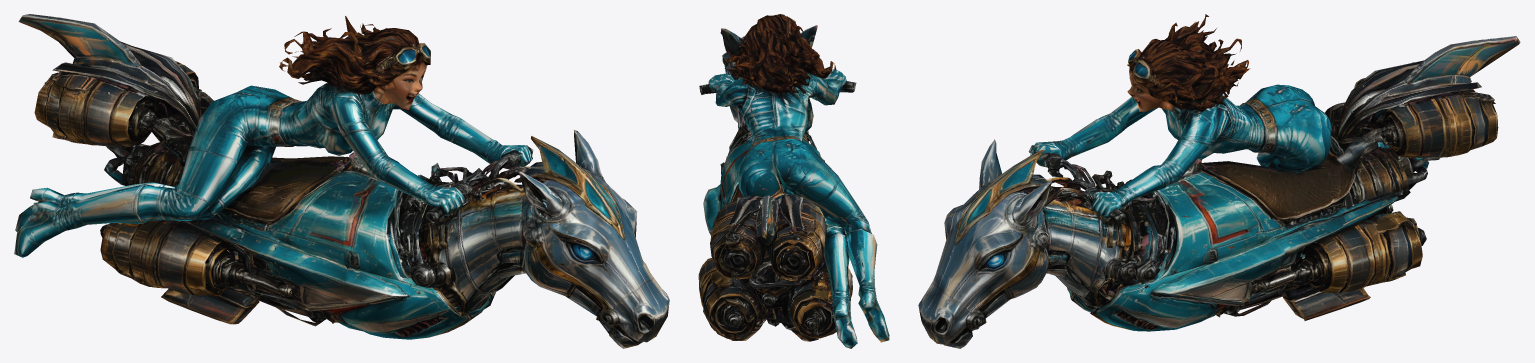
Rendered from char21_pegasus_rider.glb.
3 views of the same model, side by side, from view 1: azimuth 30°, elevation 25°; view 2: azimuth 150°, elevation 25°; view 3: azimuth 270°, elevation 25° (orthographic). The views are drawn at different scales.
Visible parts, largest first — view 1: mesh_node; view 2: mesh_node; view 3: mesh_node.
Part boxes in pixels (x1,y1,x2,y2): mesh_node: (14, 14, 669, 348); mesh_node: (698, 14, 889, 348); mesh_node: (918, 14, 1520, 348).
Bounding box in the file's own units: 1.42 × 1.02 × 1.9.
Materials: 1 (1 with a texture image).
